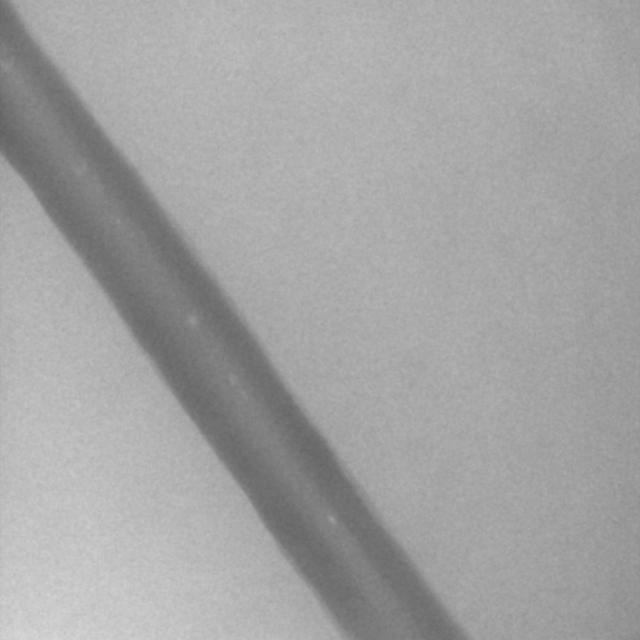air hole: (325, 512, 338, 527), (186, 310, 198, 326)
